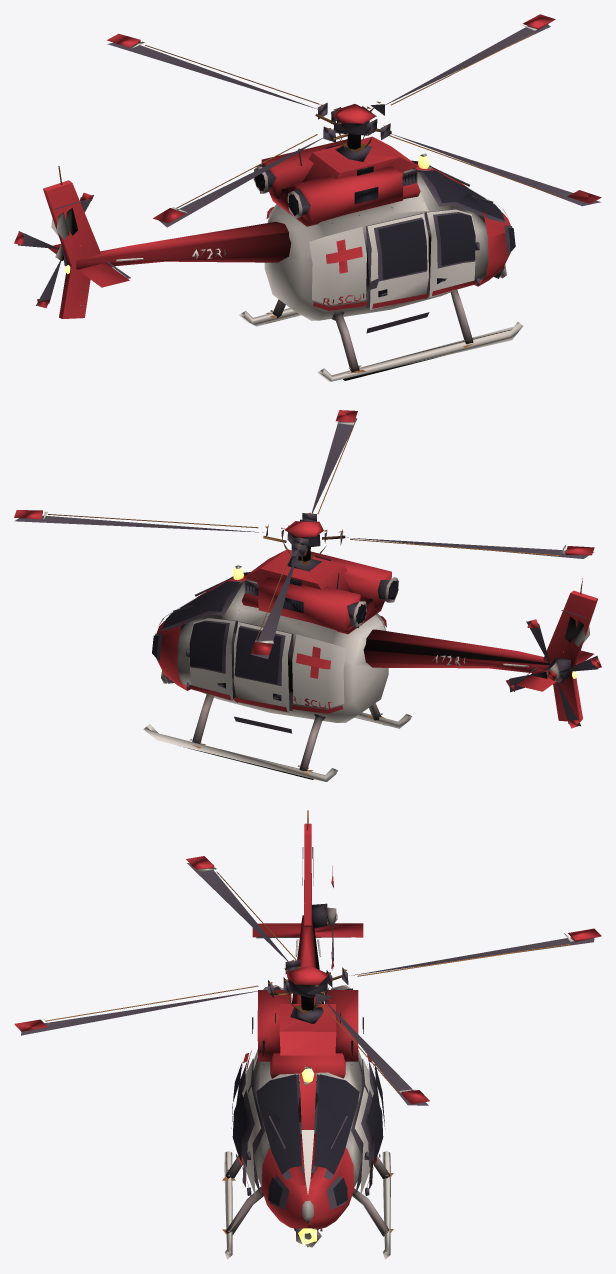
The picture shows the model from 3 angles, top to bottom: view 1: azimuth 30°, elevation 25°; view 2: azimuth 150°, elevation 25°; view 3: azimuth 270°, elevation 25°; orthographic projection. The views are drawn at different scales.
Visible parts, largest first — view 1: body_pal_survivorRed, body_pal_picketWhite, mainRotor_pal_asphalt, body_pal_asphalt, doorRescueR_pal_uiDark, body_pal_uiDark, doorRescueR_pal_picketWhite, body_pal_sidewalk, doorR_pal_uiDark, mainRotor_pal_survivorRed, doorR_pal_picketWhite, mainRotor_pal_woodWarm (+1 smaller); view 2: body_pal_survivorRed, body_pal_picketWhite, mainRotor_pal_asphalt, body_pal_asphalt, body_pal_uiDark, doorRescueL_pal_uiDark, doorRescueL_pal_picketWhite, doorL_pal_uiDark, body_pal_sidewalk, mainRotor_pal_survivorRed, doorL_pal_picketWhite, mainRotor_pal_woodWarm (+1 smaller); view 3: body_pal_survivorRed, body_pal_uiDark, mainRotor_pal_asphalt, body_pal_picketWhite, body_pal_asphalt, mainRotor_pal_survivorRed, body_pal_sidewalk, mainRotor_pal_woodWarm, doorL_pal_uiDark, doorR_pal_uiDark, doorR_pal_picketWhite, doorL_pal_picketWhite.
Boxes of the visible parts, left/top/right/bottom form: body_pal_survivorRed: left=43, top=136, right=510, bottom=318; body_pal_picketWhite: left=51, top=168, right=522, bottom=381; mainRotor_pal_asphalt: left=107, top=24, right=600, bottom=227; body_pal_asphalt: left=54, top=145, right=512, bottom=380; doorRescueR_pal_uiDark: left=378, top=219, right=427, bottom=297; body_pal_uiDark: left=254, top=144, right=515, bottom=251; doorRescueR_pal_picketWhite: left=367, top=213, right=428, bottom=309; body_pal_sidewalk: left=80, top=134, right=475, bottom=372; doorR_pal_uiDark: left=437, top=213, right=475, bottom=284; mainRotor_pal_survivorRed: left=107, top=14, right=601, bottom=223; doorR_pal_picketWhite: left=427, top=209, right=476, bottom=297; mainRotor_pal_woodWarm: left=145, top=32, right=563, bottom=208; body_pal_survivorRed: left=156, top=549, right=597, bottom=721; body_pal_picketWhite: left=143, top=579, right=589, bottom=781; mainRotor_pal_asphalt: left=14, top=418, right=593, bottom=658; body_pal_asphalt: left=155, top=556, right=586, bottom=779; body_pal_uiDark: left=152, top=556, right=398, bottom=658; doorRescueL_pal_uiDark: left=234, top=627, right=281, bottom=700; doorRescueL_pal_picketWhite: left=233, top=622, right=291, bottom=712; doorL_pal_uiDark: left=189, top=622, right=225, bottom=688; body_pal_sidewalk: left=190, top=547, right=562, bottom=771; mainRotor_pal_survivorRed: left=14, top=410, right=594, bottom=655; doorL_pal_picketWhite: left=189, top=618, right=235, bottom=701; mainRotor_pal_woodWarm: left=48, top=426, right=560, bottom=640; body_pal_survivorRed: left=241, top=823, right=375, bottom=1229; body_pal_uiDark: left=256, top=1040, right=359, bottom=1205; mainRotor_pal_asphalt: left=21, top=863, right=594, bottom=1105; body_pal_picketWhite: left=224, top=859, right=390, bottom=1259; body_pal_asphalt: left=242, top=847, right=372, bottom=1209; mainRotor_pal_survivorRed: left=14, top=856, right=601, bottom=1104; body_pal_sidewalk: left=225, top=985, right=390, bottom=1236; mainRotor_pal_woodWarm: left=45, top=871, right=570, bottom=1093; doorL_pal_uiDark: left=366, top=1091, right=383, bottom=1162; doorR_pal_uiDark: left=232, top=1091, right=249, bottom=1162; doorR_pal_picketWhite: left=245, top=1087, right=260, bottom=1196; doorL_pal_picketWhite: left=355, top=1087, right=370, bottom=1196.
Bounding box in the file's own units: 11.11 × 4.5 × 9.68.
